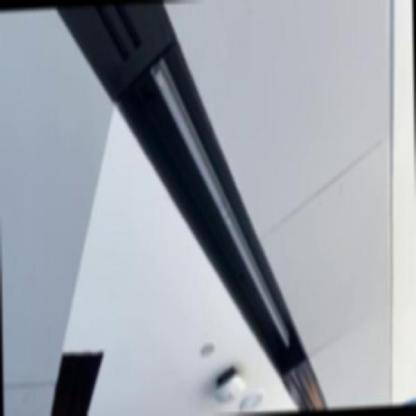light_off: (144, 49, 298, 363)
